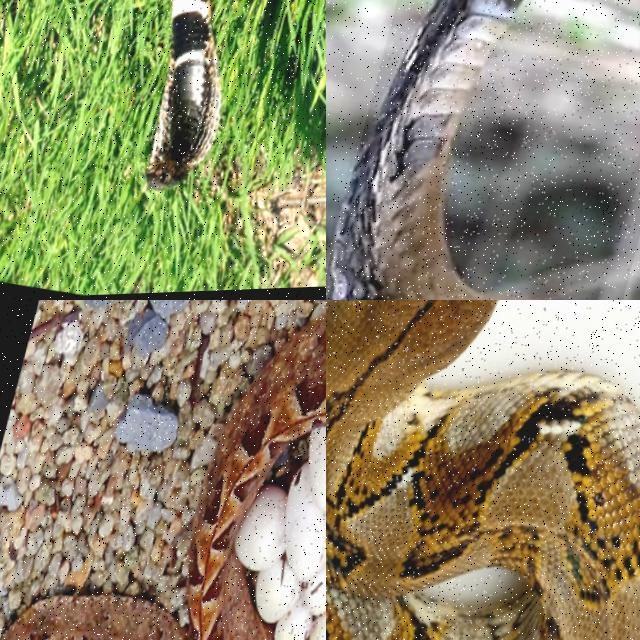Calloselasma rhodostoma: (2, 313, 325, 639)
Malayopython reticulatus: (326, 300, 639, 639)
Naja kaouthia: (332, 0, 520, 299)
Naja siamensis: (145, 0, 220, 188)
snake: (326, 300, 639, 639), (2, 313, 325, 639), (332, 0, 520, 299), (145, 0, 220, 188)
